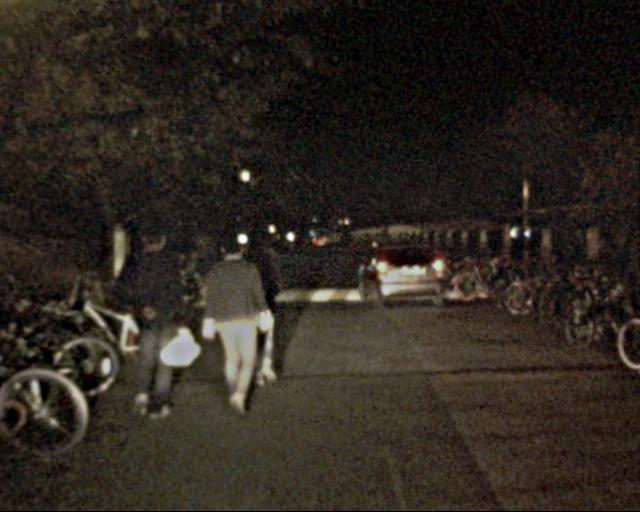person: (110, 219, 191, 419), (196, 236, 269, 412), (226, 225, 284, 359), (178, 227, 232, 340)
